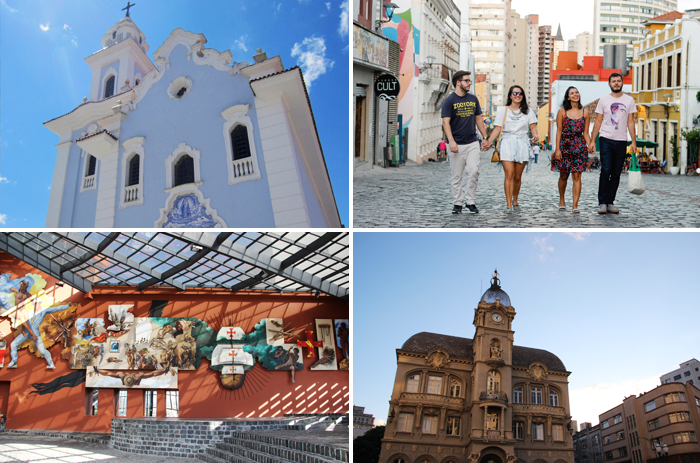Humano: (441, 65, 489, 217), (594, 65, 637, 215), (493, 82, 540, 214), (552, 78, 591, 216)
